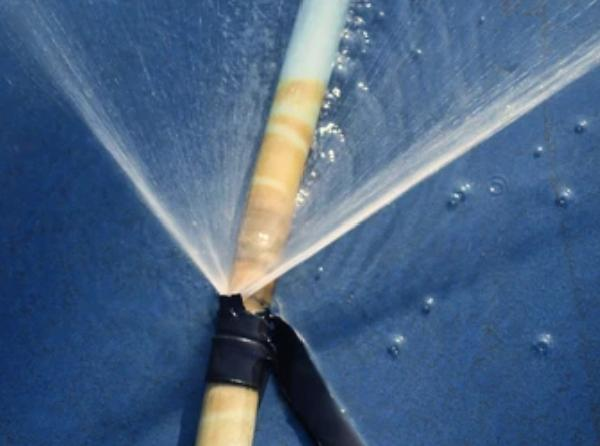pipe burst: (0, 0, 600, 300)
